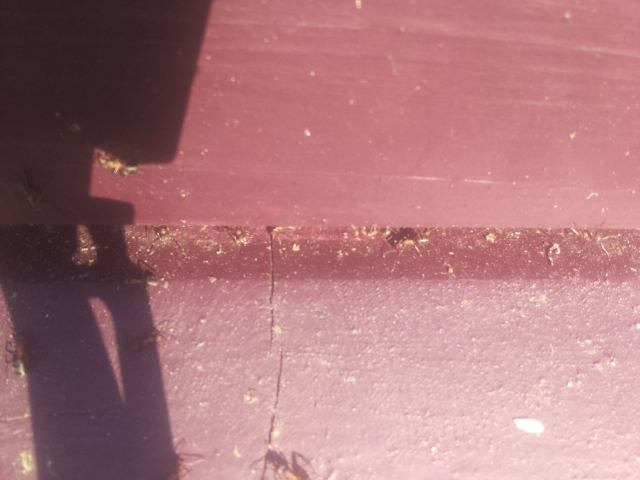ant: (99, 147, 147, 178), (12, 170, 43, 212), (4, 330, 28, 381)
